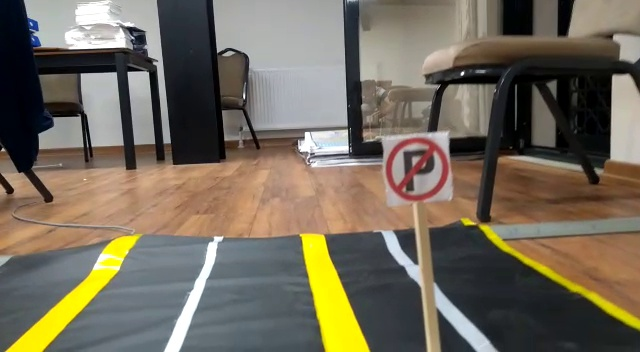park_yapilmaz: (384, 137, 448, 198)
